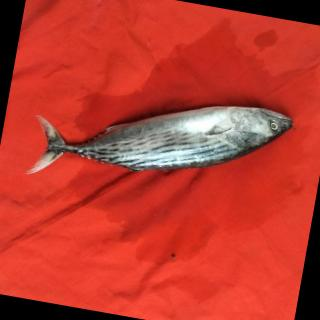Ikan: (21, 65, 301, 227)
